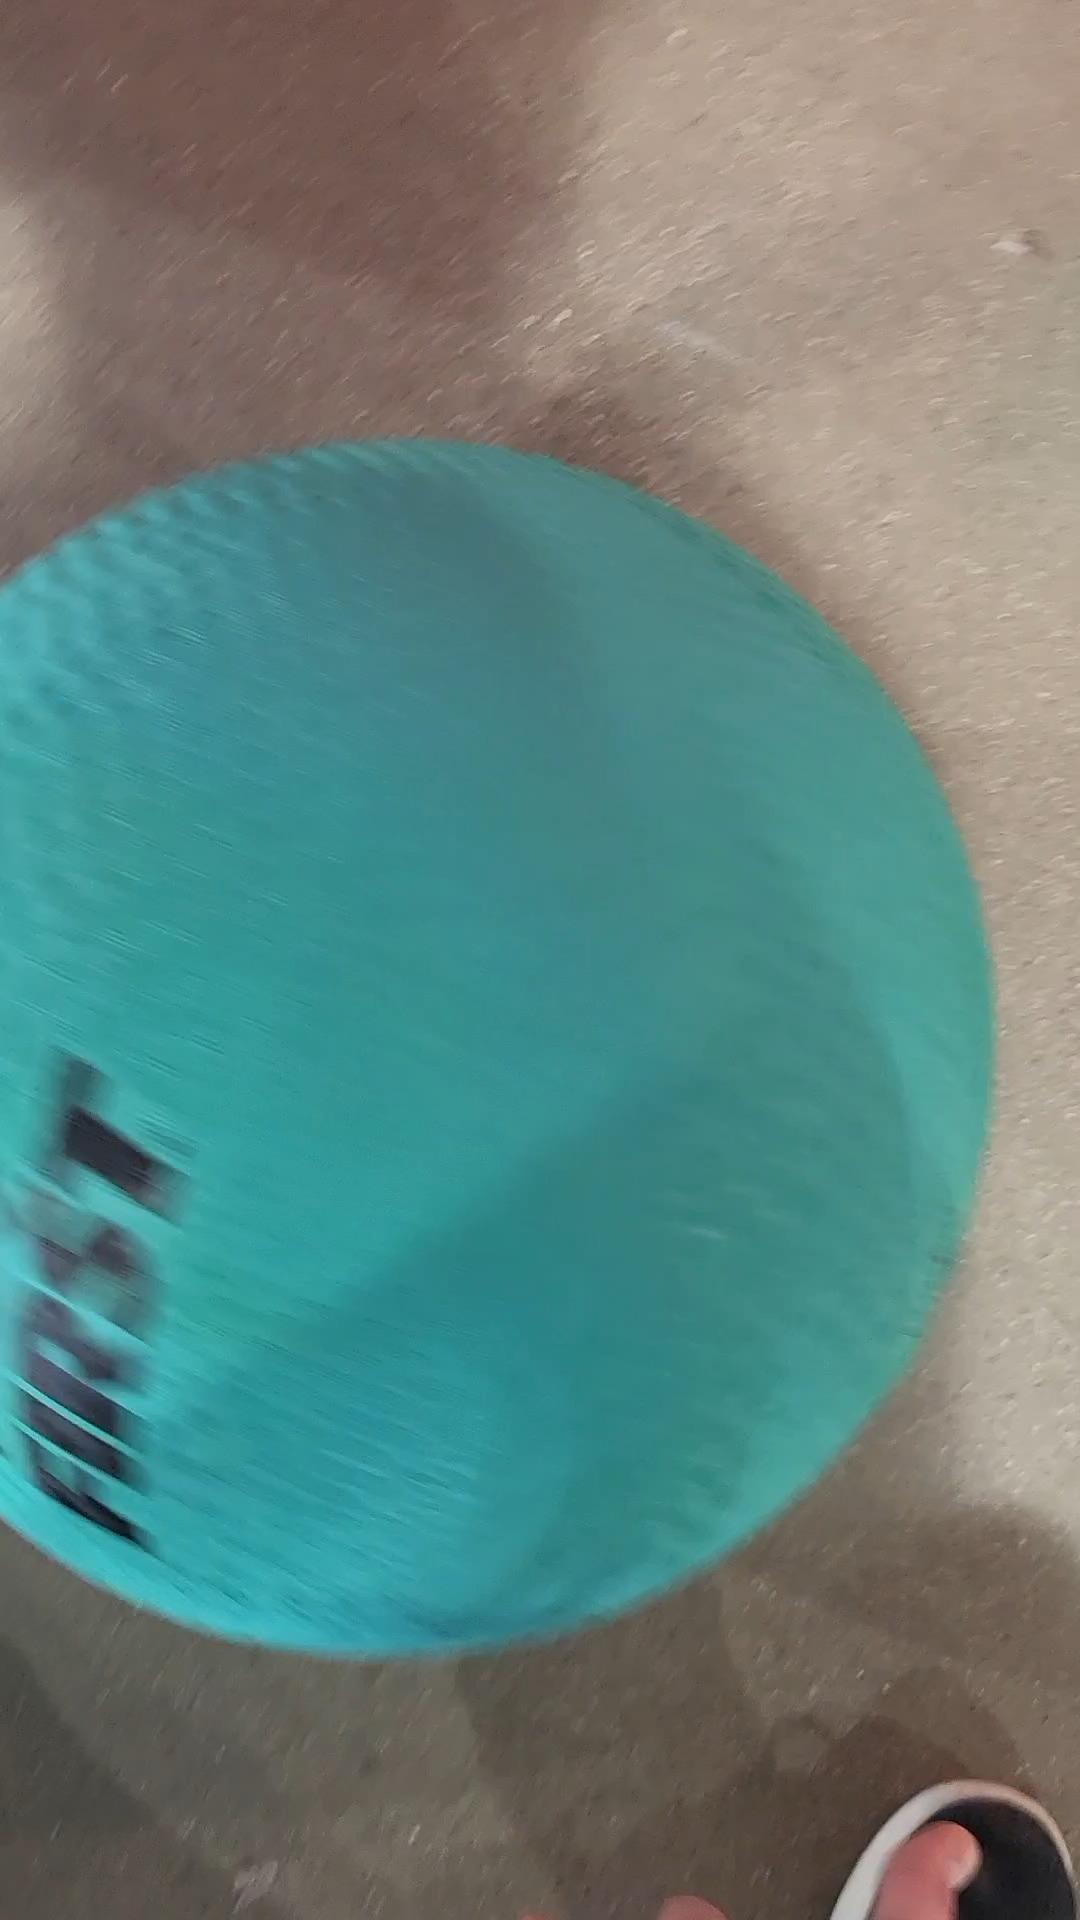algae: (0, 438, 1004, 1648)
